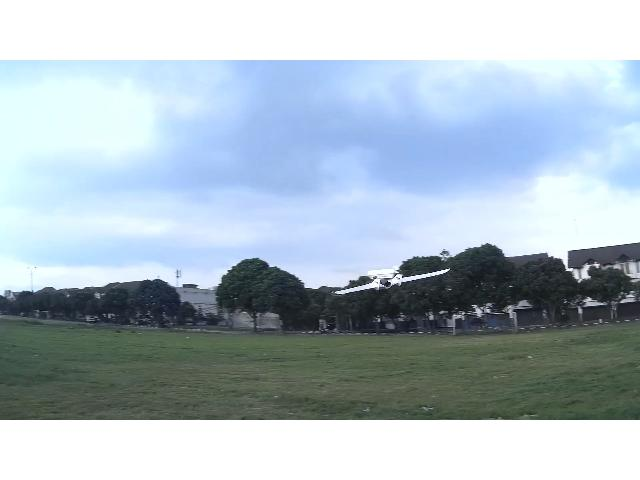Anti-Drone: (331, 269, 451, 293)
